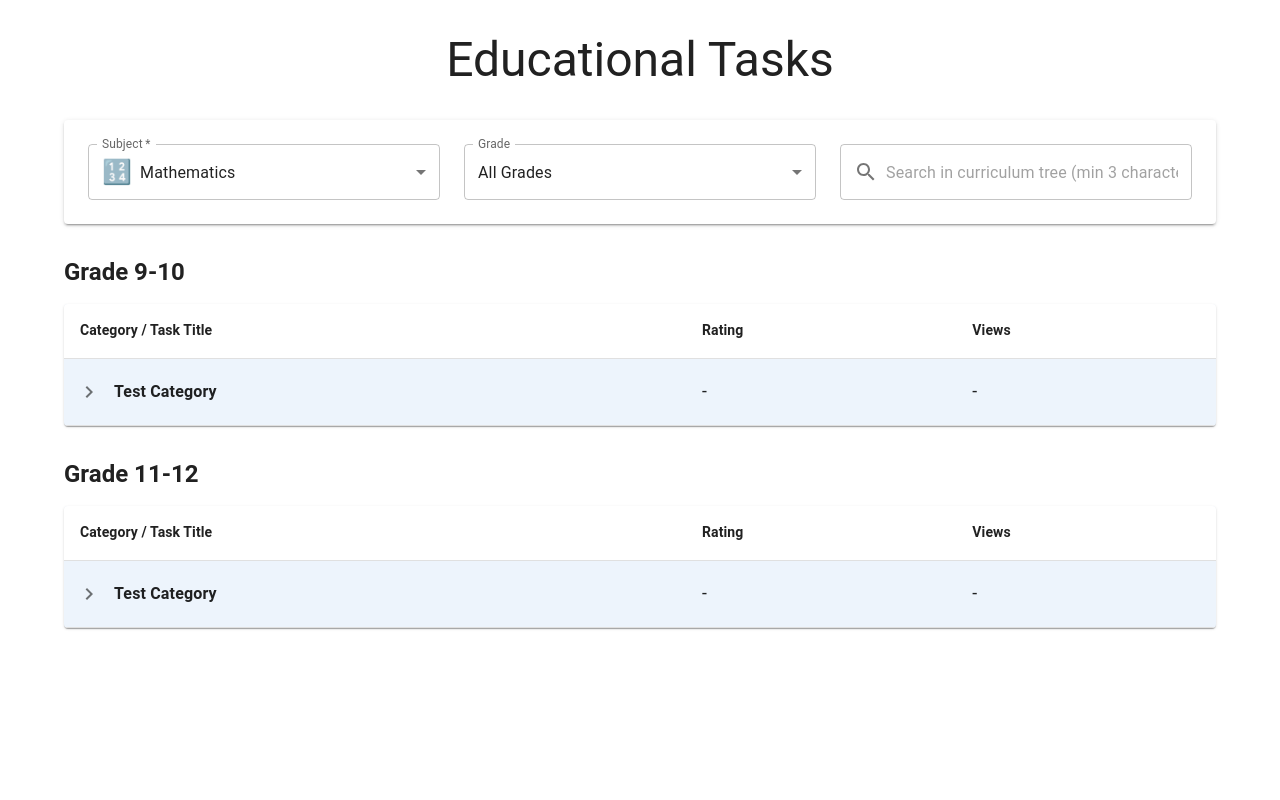
Test: TasksPage › should show helper text when search query is less than 3 characters
The width and height of the screenshot is (1280, 800).
Expected: the heading "Educational Tasks" is shown, [446, 31, 834, 88]
In the field with placeholder "Search in curriculum tree (min 3 characters)...": (1039, 172) [886, 144, 1192, 200], type "Te"
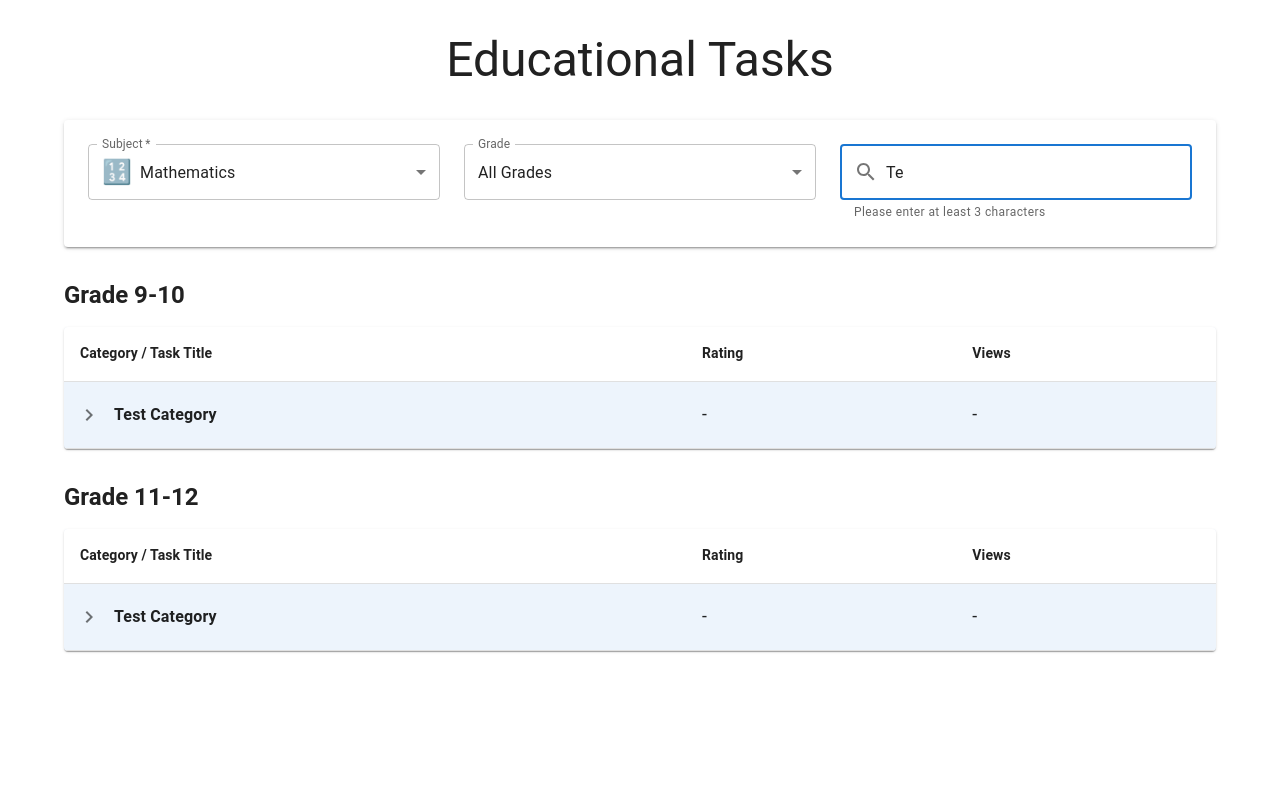
Now the text "Please enter at least 3 characters" is shown, box [854, 205, 1046, 219]
